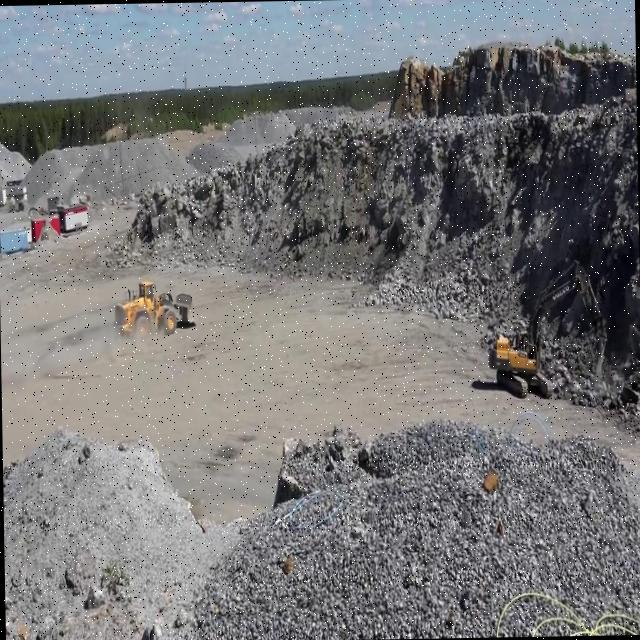Excavator: (485, 250, 605, 406)
Loader: (110, 274, 198, 334)
